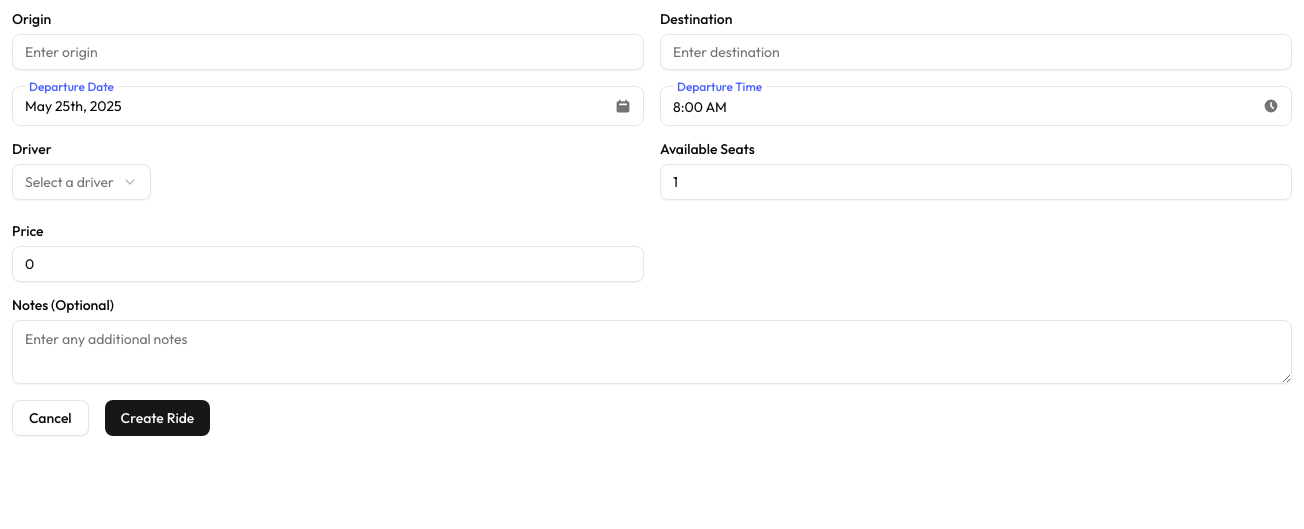
it: RideForm › shows validation errors for required fields
Note: Submit form without filling required fields
Click the button "Create Ride" at (157, 418), box [105,400,210,436]
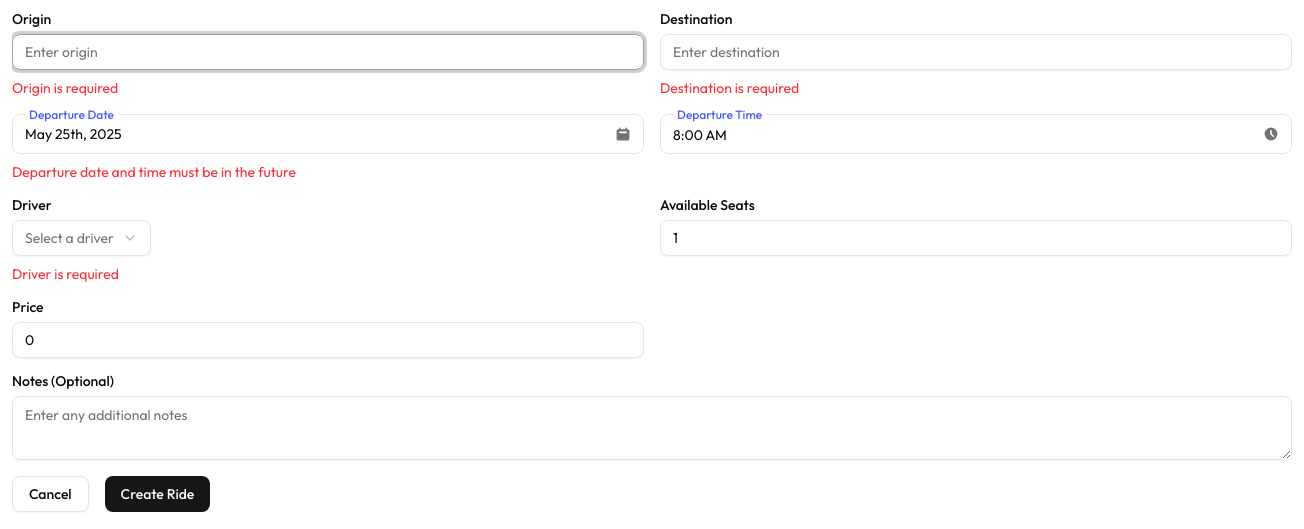
Result: the text "Origin is required" is shown at [12,79,118,97]
